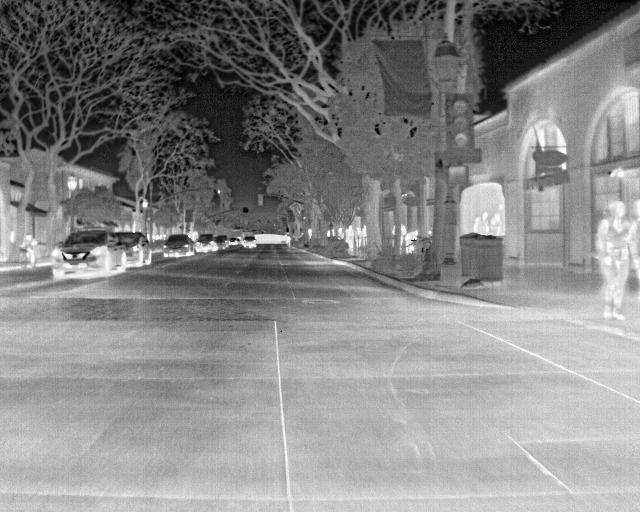bicycle: (49, 228, 125, 284), (113, 232, 152, 270), (162, 234, 194, 258), (194, 235, 217, 254), (241, 234, 258, 252), (212, 235, 226, 250), (226, 235, 239, 248)
empty: (593, 202, 633, 319), (18, 233, 39, 269), (342, 221, 355, 255), (475, 211, 490, 233), (491, 212, 503, 234)
